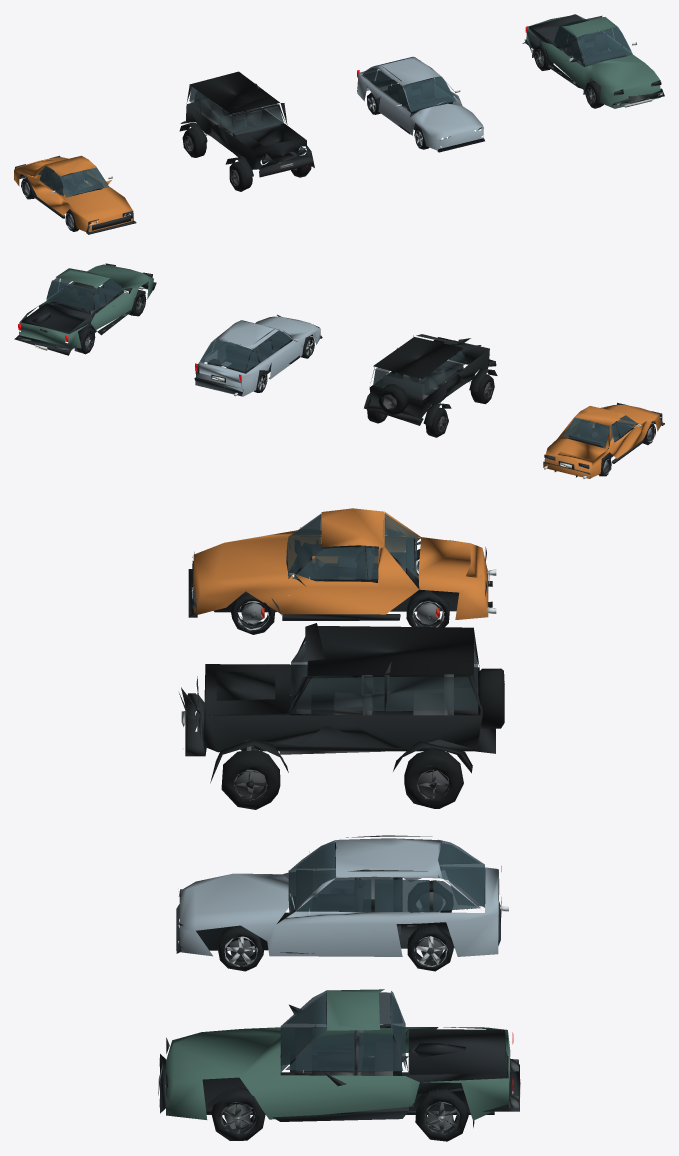
The model's file is parked_cars.glb.
3 renders of one model, top to bottom at view 1: azimuth 30°, elevation 25°; view 2: azimuth 150°, elevation 25°; view 3: azimuth 270°, elevation 25°, orthographic. The views are drawn at different scales.
Parts seen in each view (by area): view 1: ParkedJeep, ParkedPickup, ParkedWagon, ParkedAster, ParkedJeepWheelRearL, ParkedJeepWheelFrontL, ParkedPickupWheelFrontL; view 2: ParkedJeep, ParkedPickup, ParkedWagon, ParkedAster, ParkedJeepWheelFrontL, ParkedJeepWheelRearL; view 3: ParkedJeep, ParkedPickup, ParkedWagon, ParkedAster, ParkedJeepWheelRearR, ParkedJeepWheelFrontR, ParkedPickupWheelFrontR, ParkedPickupWheelRearR, ParkedWagonWheelRearR, ParkedWagonWheelFrontR, ParkedAsterWheelRearR, ParkedAsterWheelFrontR (+1 smaller).
Boxes of the visible parts, x1=… form: ParkedJeep: x1=179, y1=71, x2=314, y2=178; ParkedPickup: x1=522, y1=14, x2=664, y2=108; ParkedWagon: x1=357, y1=56, x2=484, y2=152; ParkedAster: x1=14, y1=155, x2=136, y2=234; ParkedJeepWheelRearL: x1=182, y1=128, x2=206, y2=157; ParkedJeepWheelFrontL: x1=229, y1=161, x2=252, y2=191; ParkedPickupWheelFrontL: x1=585, y1=81, x2=603, y2=108; ParkedJeep: x1=364, y1=334, x2=497, y2=426; ParkedPickup: x1=14, y1=263, x2=156, y2=355; ParkedWagon: x1=194, y1=314, x2=322, y2=396; ParkedAster: x1=543, y1=402, x2=664, y2=478; ParkedJeepWheelFrontL: x1=470, y1=374, x2=494, y2=404; ParkedJeepWheelRearL: x1=425, y1=407, x2=448, y2=437; ParkedJeep: x1=179, y1=623, x2=504, y2=783; ParkedPickup: x1=158, y1=989, x2=520, y2=1127; ParkedWagon: x1=176, y1=835, x2=508, y2=956; ParkedAster: x1=188, y1=508, x2=496, y2=620; ParkedJeepWheelRearR: x1=404, y1=749, x2=463, y2=808; ParkedJeepWheelFrontR: x1=221, y1=750, x2=280, y2=809; ParkedPickupWheelFrontR: x1=211, y1=1087, x2=265, y2=1140; ParkedPickupWheelRearR: x1=415, y1=1088, x2=468, y2=1141; ParkedWagonWheelRearR: x1=407, y1=925, x2=453, y2=971; ParkedWagonWheelFrontR: x1=218, y1=925, x2=263, y2=971; ParkedAsterWheelRearR: x1=406, y1=590, x2=449, y2=627; ParkedAsterWheelFrontR: x1=230, y1=593, x2=275, y2=634.
Size of the model in its own units: 20.22 by 2.3 by 5.48.
